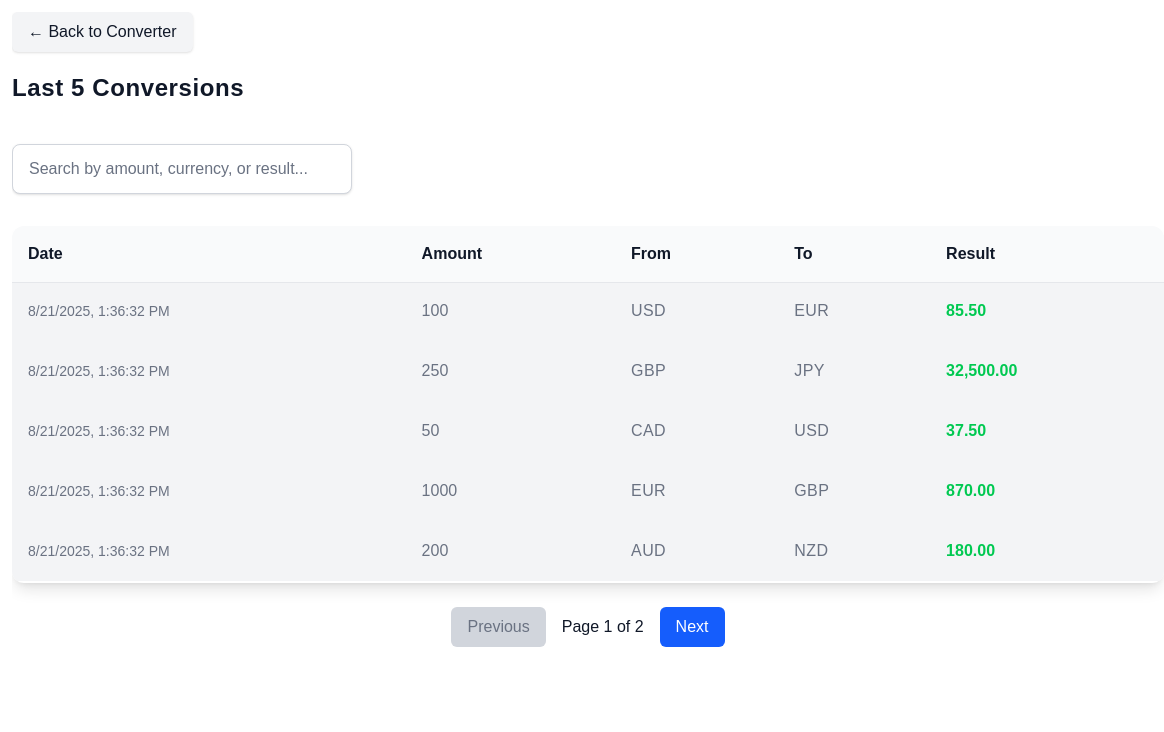
Test: TransactionHistory › navigates to next page when Next button is clicked
Click the button "Next" at point(692, 627), box [660,607,724,647]
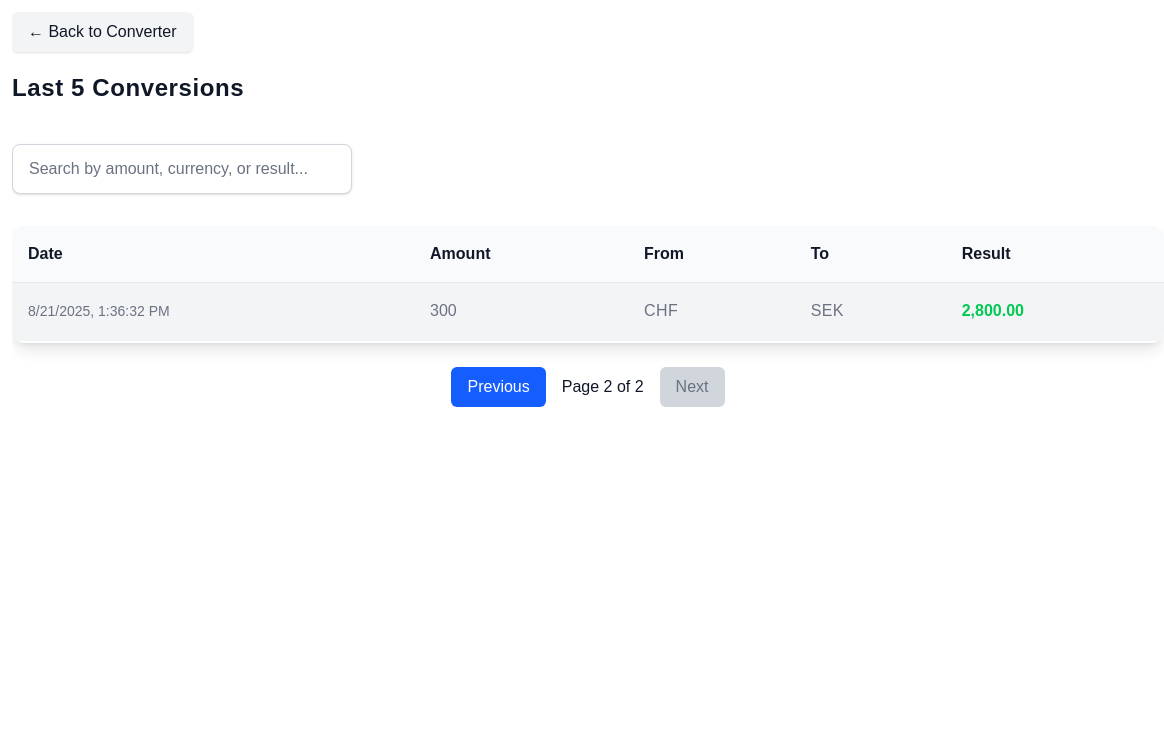
Expected: the text "Page 2 of 2" is shown, [562,375,644,399]
Expected: the button "Previous" is enabled, [452,367,546,407]
